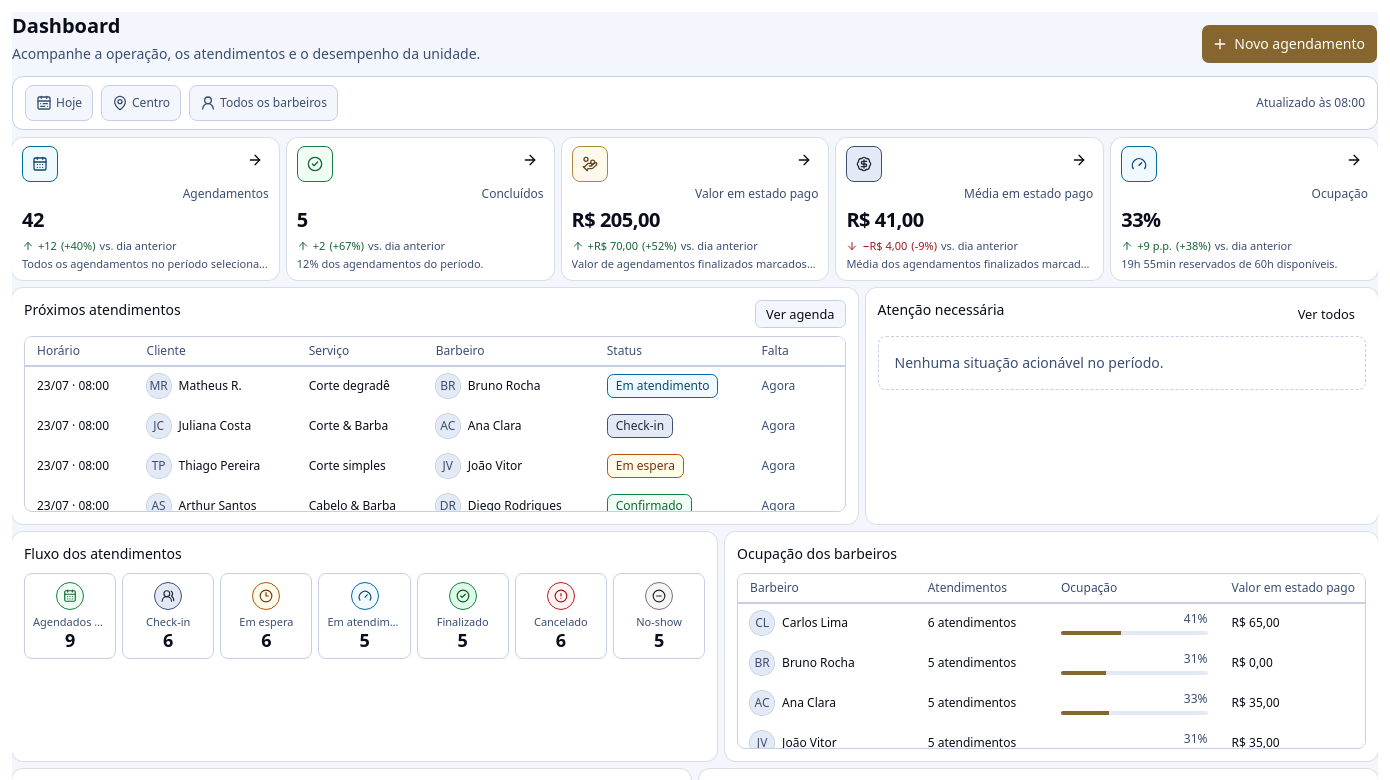
Test: WorkspaceOverview › opens the established compact filter menus
This screenshot has width=1390, height=780.
Click the button with aria-label "Período: Hoje" at (59, 103), box [25,85,93,121]
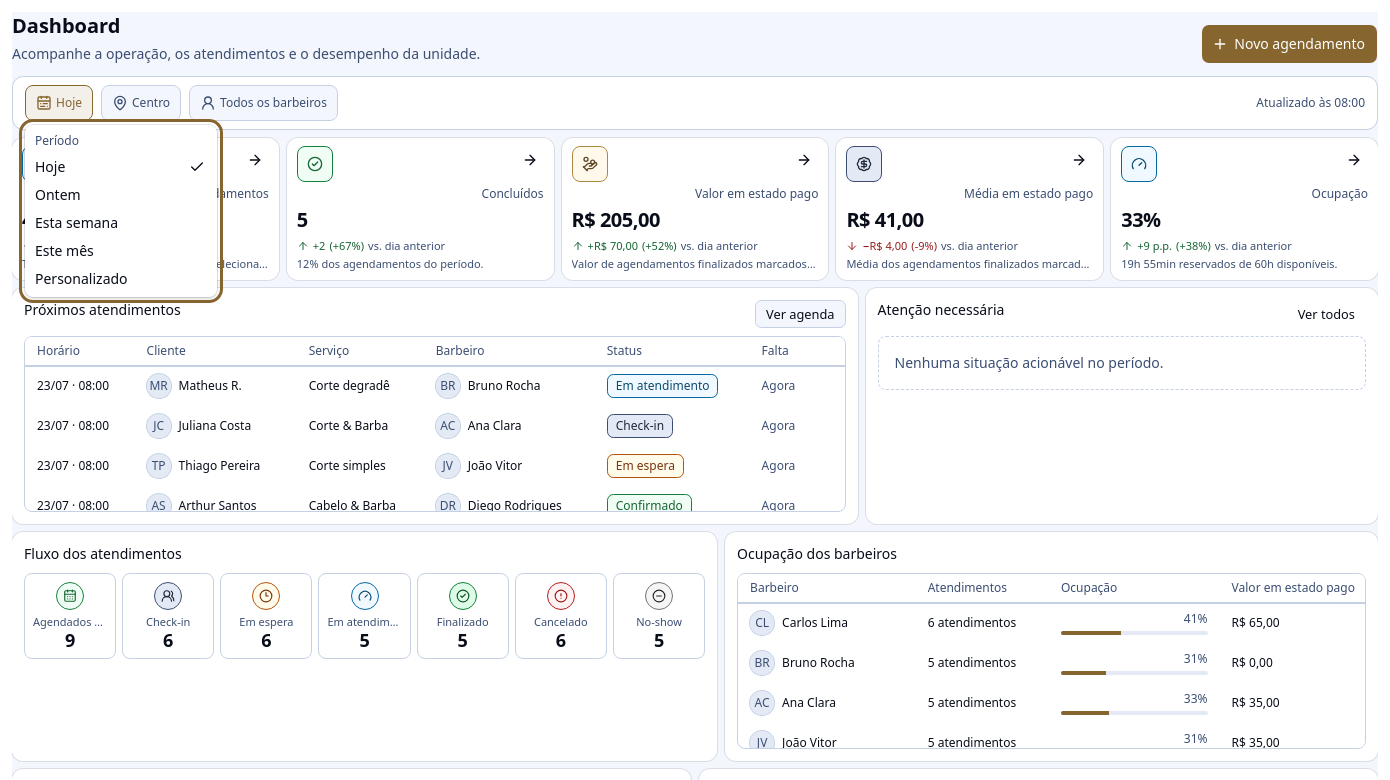
Check: the menu item "Personalizado" is shown, box [35,269,128,288]
